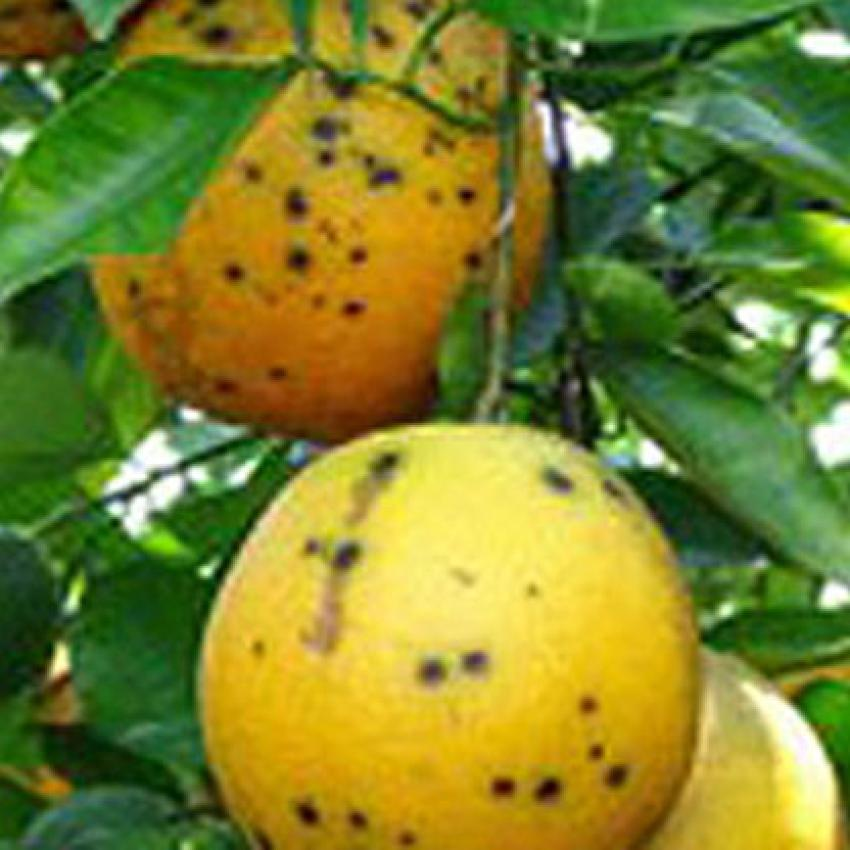Mal estado: (186, 419, 706, 848), (77, 0, 550, 440)
